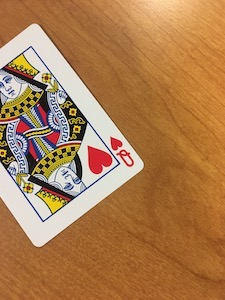QueenOfHearts: (1, 21, 145, 249)
